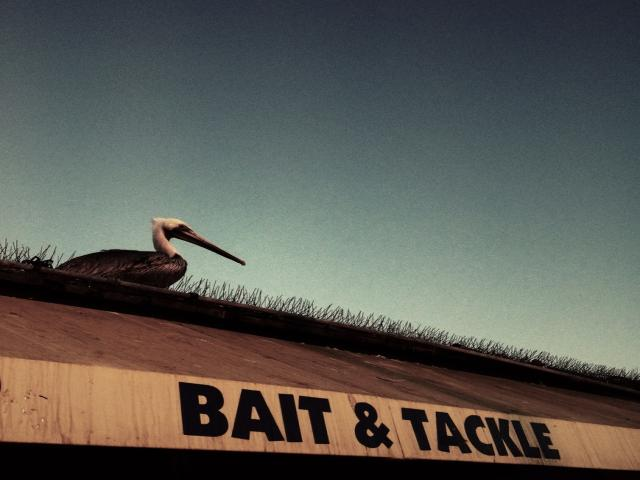Bird: (20, 212, 252, 296)
